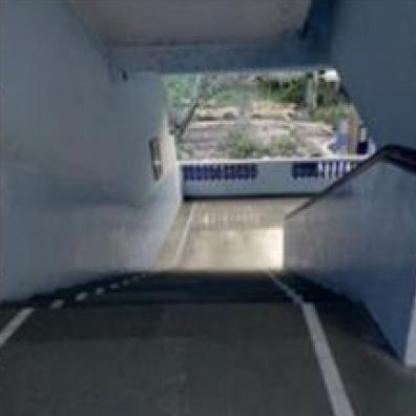stair_down: (70, 244, 318, 348)
